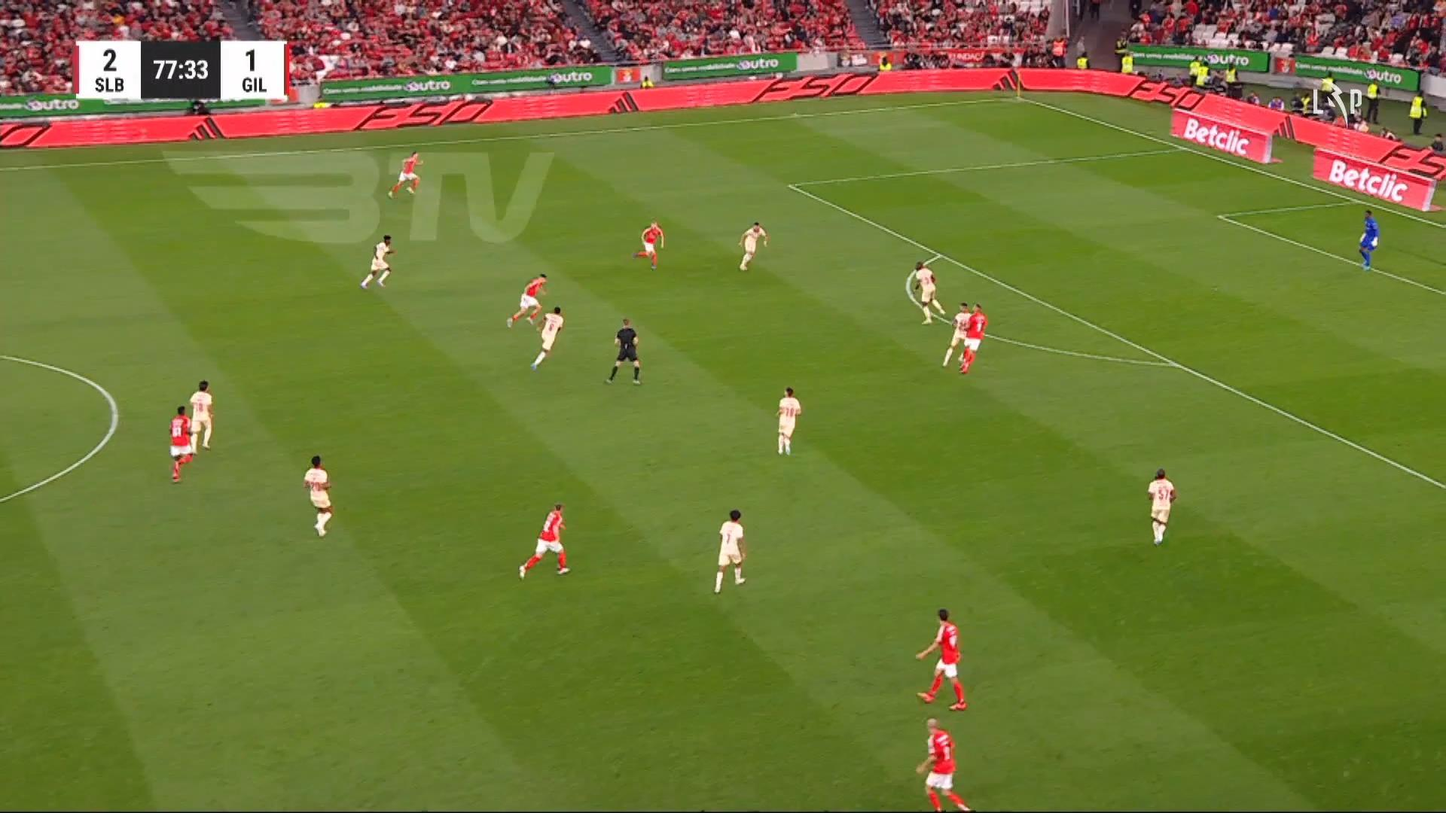goalkeeper: (1357, 208, 1379, 270)
player: (914, 607, 967, 711), (915, 717, 972, 811), (517, 501, 570, 580), (713, 509, 746, 594), (909, 259, 949, 325), (302, 455, 334, 537), (505, 272, 548, 328), (1146, 467, 1176, 545), (529, 306, 564, 370), (956, 303, 987, 374), (168, 404, 194, 483), (941, 302, 972, 367), (359, 234, 395, 289), (188, 379, 214, 455), (775, 386, 801, 455), (386, 150, 423, 198), (632, 221, 664, 269), (737, 221, 767, 271)
referee: (603, 317, 642, 385)
